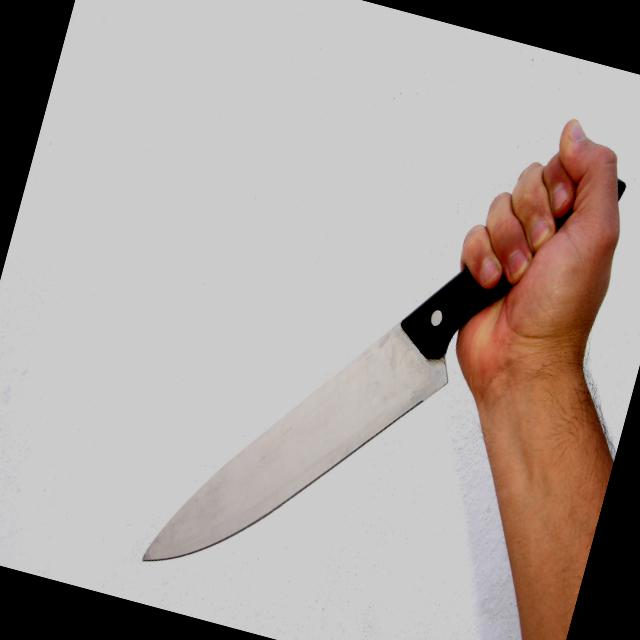knife: (128, 137, 562, 639)
